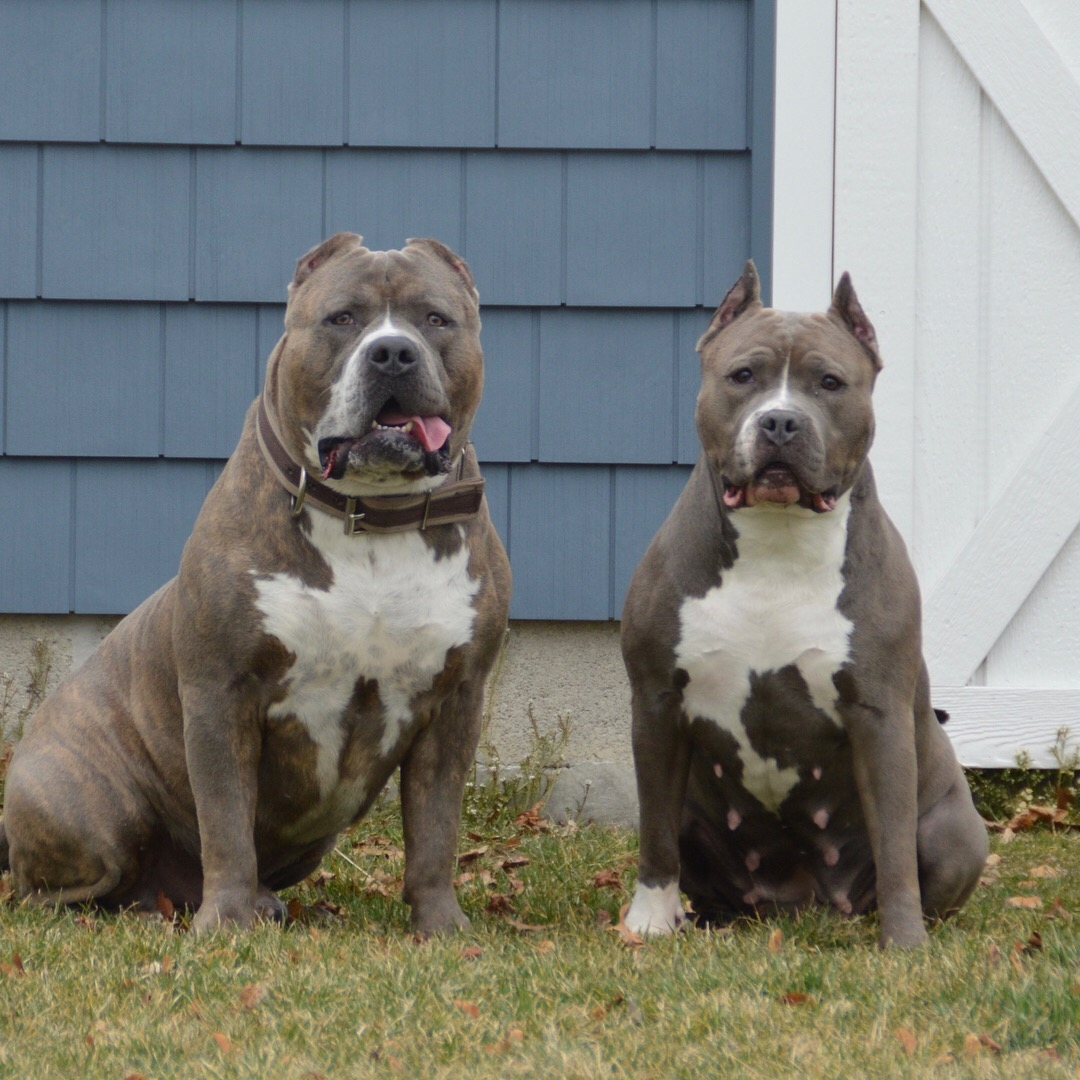am_pit_bull_terrier: (1, 233, 514, 941), (616, 259, 994, 951)
